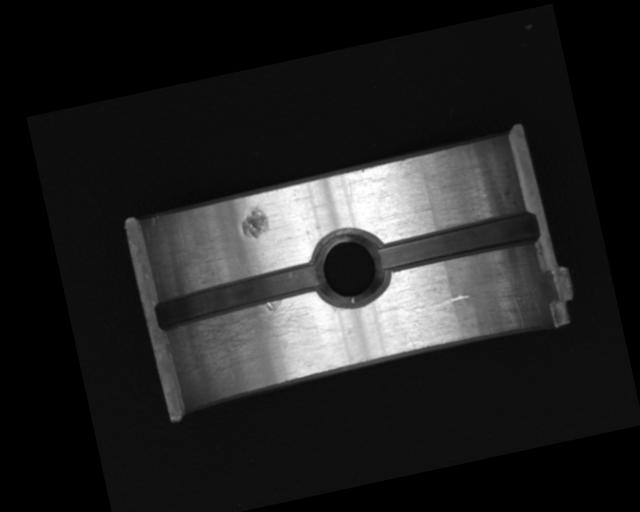bruise: (237, 203, 272, 242)
gap: (151, 258, 327, 333), (373, 209, 541, 279)
hole: (311, 222, 393, 313)
nick: (413, 292, 471, 314)
scratch: (171, 288, 337, 386)
